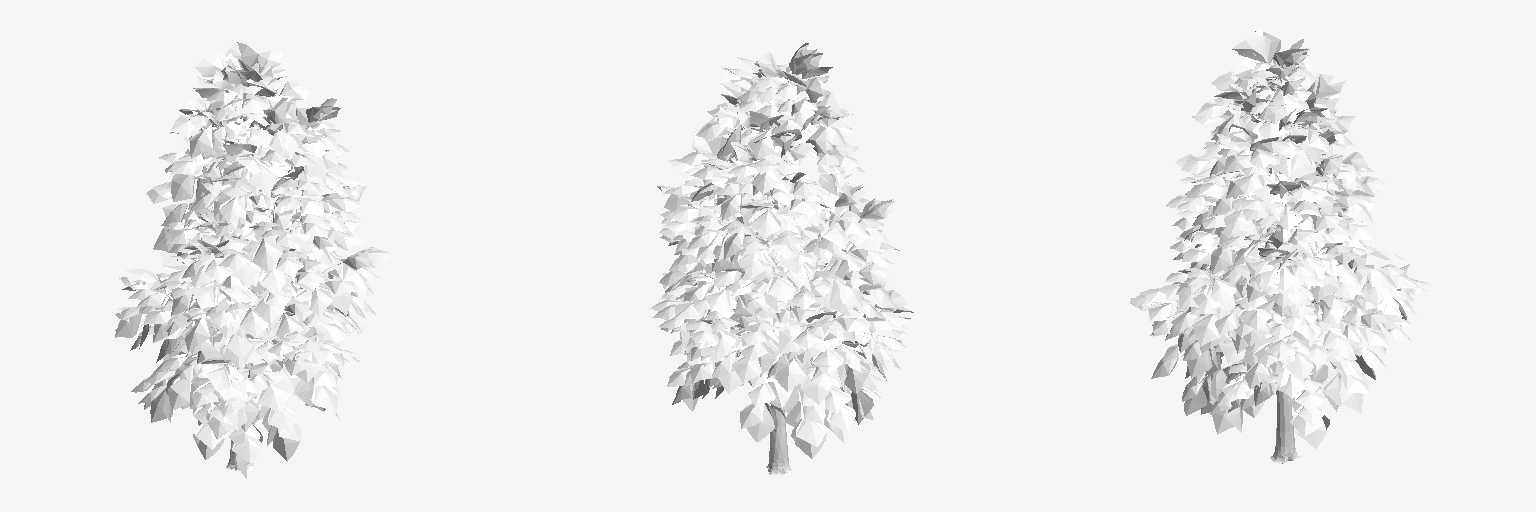
Rendered from Tree.obj.
3 views of the same model, side by side, from view 1: azimuth 30°, elevation 25°; view 2: azimuth 150°, elevation 25°; view 3: azimuth 270°, elevation 25° (orthographic).
Visible parts, largest first — view 1: g2; view 2: g2, g1; view 3: g2, g1.
Part boxes in pixels (bbox=[...]): g2: bbox=[115, 41, 390, 478]; g2: bbox=[650, 43, 913, 458]; g1: bbox=[714, 71, 871, 475]; g2: bbox=[1130, 29, 1430, 448]; g1: bbox=[1178, 87, 1316, 463].
Size of the model in its own units: 2.61 by 4.66 by 3.06.